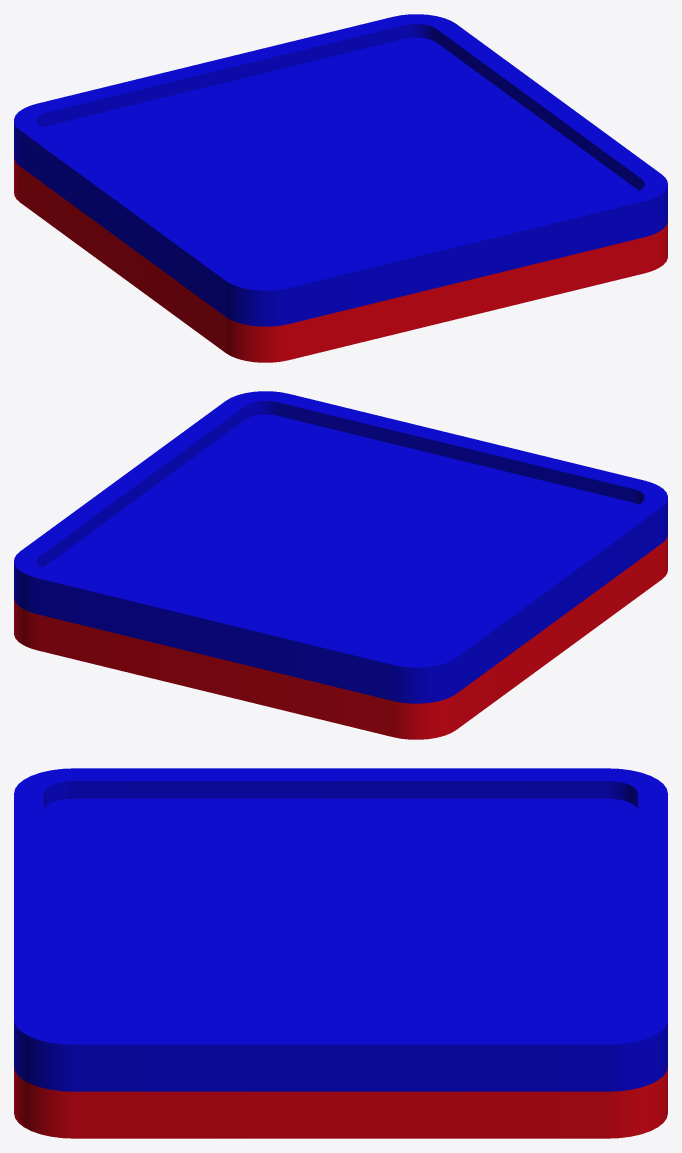
The model's file is DemonModel.fbx.
3 views of the same model, one above another, from view 1: azimuth 30°, elevation 25°; view 2: azimuth 150°, elevation 25°; view 3: azimuth 270°, elevation 25° (orthographic). The views are drawn at different scales.
Visible parts, largest first — view 1: Cube; view 2: Cube; view 3: Cube.
Part boxes in pixels (box(x1,y1,x2,y2)): Cube: box(14, 14, 667, 362); Cube: box(14, 391, 667, 739); Cube: box(14, 768, 667, 1138).
Bounding box in the file's own units: 2 × 2 × 0.3166.
